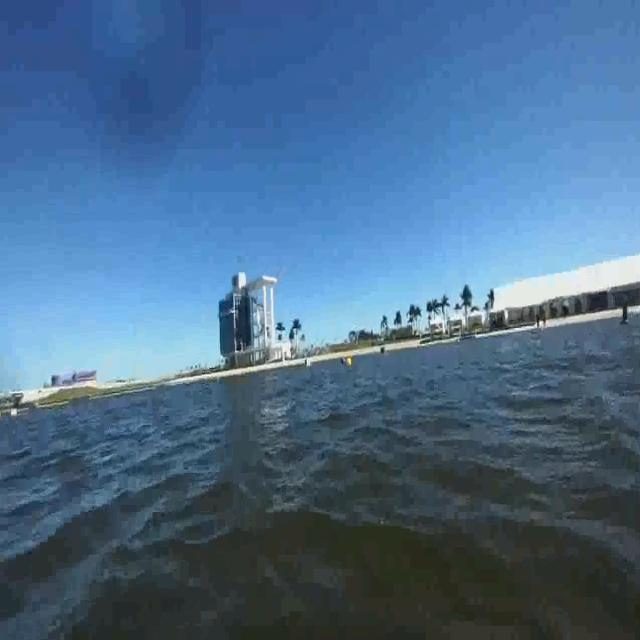yellow-buoy: (347, 356, 354, 367)
